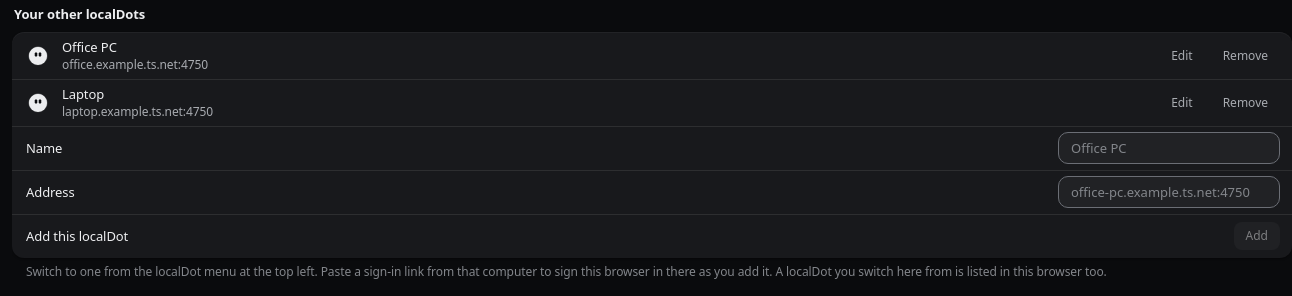
Test case: edits an entry in place, its name and address filled in, and keeps the list's order
Click the button with aria-label "Edit Office PC" at (1182, 56), box x1=1159 y1=42 x2=1205 y2=70
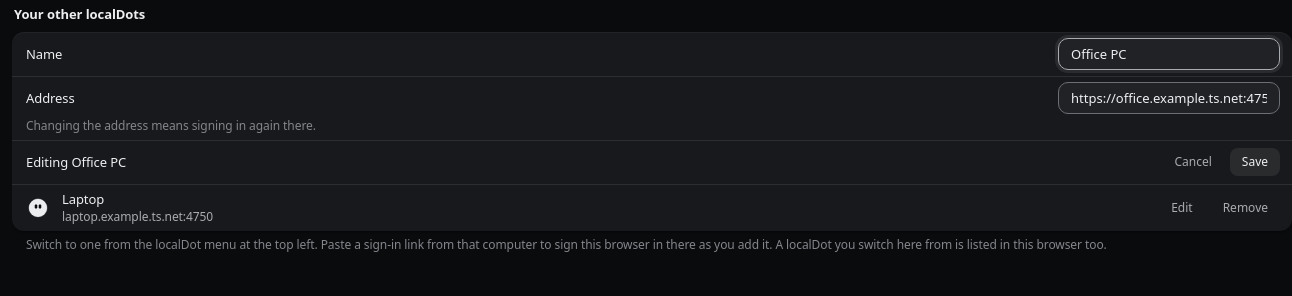
Check: the field labelled "Name" holds "Office PC"
Check: the field labelled "Address" holds "https://office.example.ts.net:4750", box x1=1071 y1=83 x2=1267 y2=113
Check: the text "Changing the address means signing in again there." is shown, box x1=26 y1=117 x2=316 y2=134
Replace the text in the field labelled "Name" with "Studio" at (1169, 54), box x1=1071 y1=39 x2=1267 y2=69
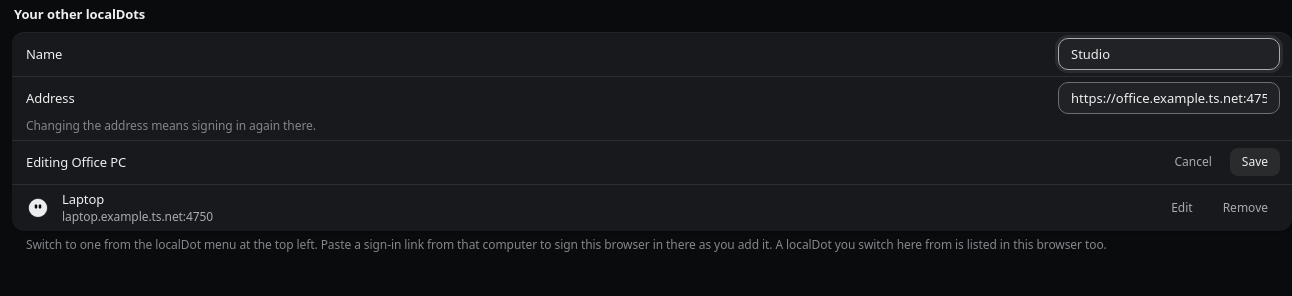
Replace the text in the field labelled "Address" with "studio.example.ts.net:4750" at (1169, 98), box x1=1071 y1=83 x2=1267 y2=113
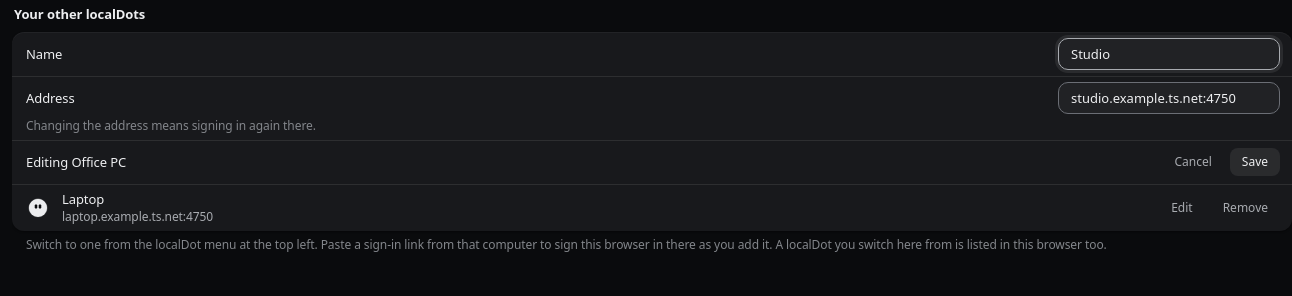
Click the button "Save" at (1255, 162), box x1=1230 y1=148 x2=1280 y2=176
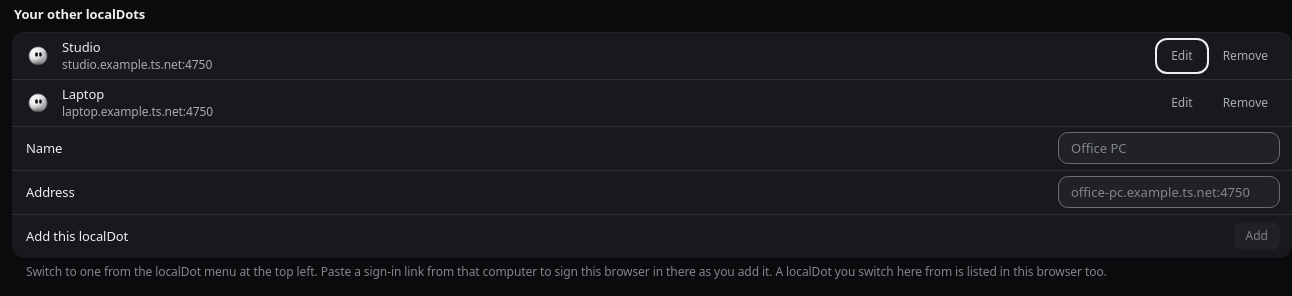
Check: the button "Add" is shown, box x1=1234 y1=222 x2=1280 y2=250
